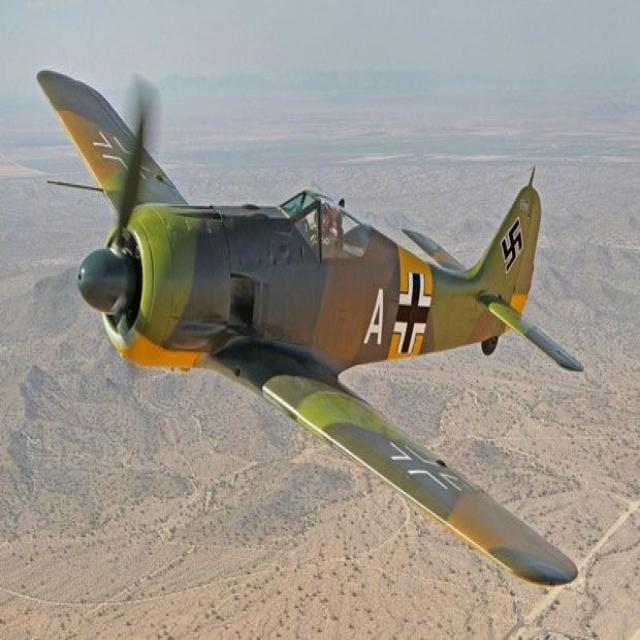iha: (34, 58, 586, 585)
